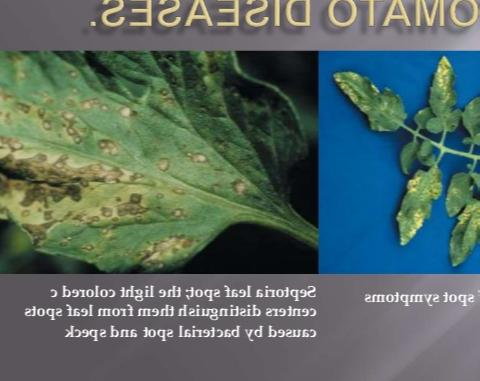Tomato Septoria leaf spot: (0, 57, 305, 270), (332, 63, 410, 144), (393, 162, 451, 245), (422, 54, 466, 143), (428, 194, 480, 268)
